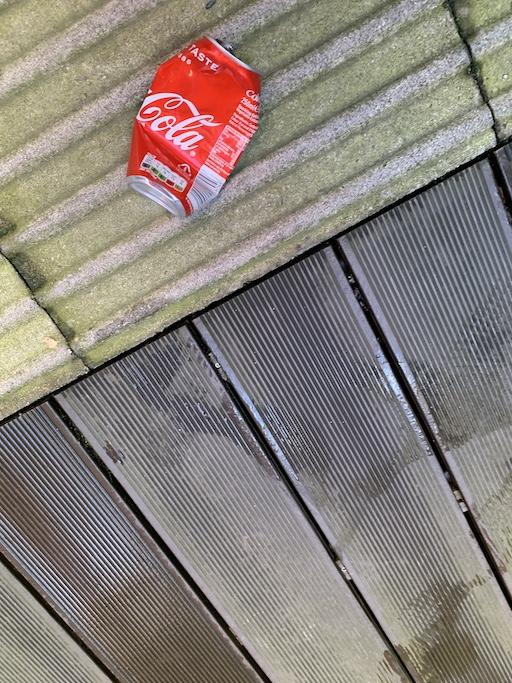Aluminum can: (119, 34, 287, 235)
